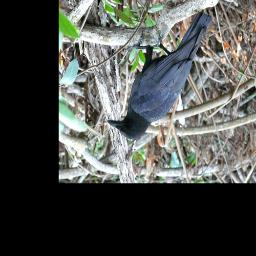Crow: (106, 8, 213, 140)
